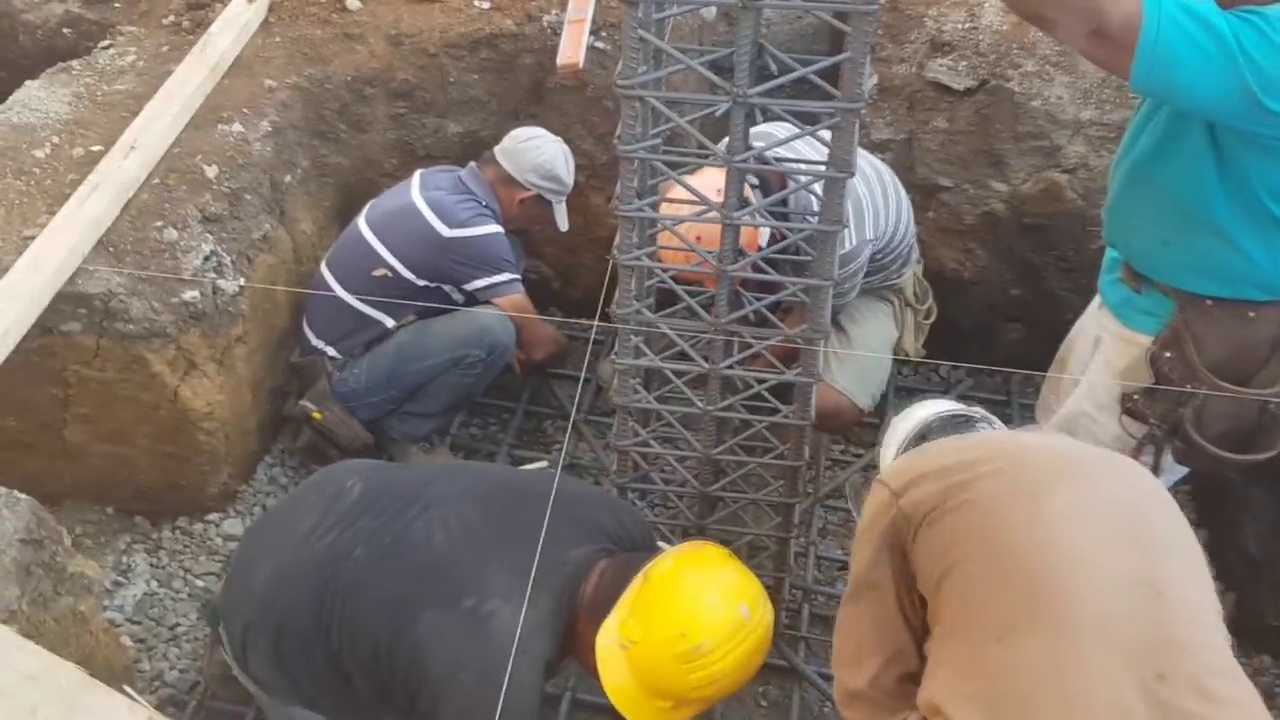helmet: (595, 548, 772, 717), (660, 165, 754, 278)
helmet-off: (490, 117, 578, 239)
helmet-on: (553, 533, 775, 719), (654, 128, 802, 290), (876, 389, 1015, 483)
person: (170, 465, 774, 720), (832, 391, 1279, 716), (1003, 0, 1280, 486), (311, 105, 575, 477), (654, 125, 930, 423)
